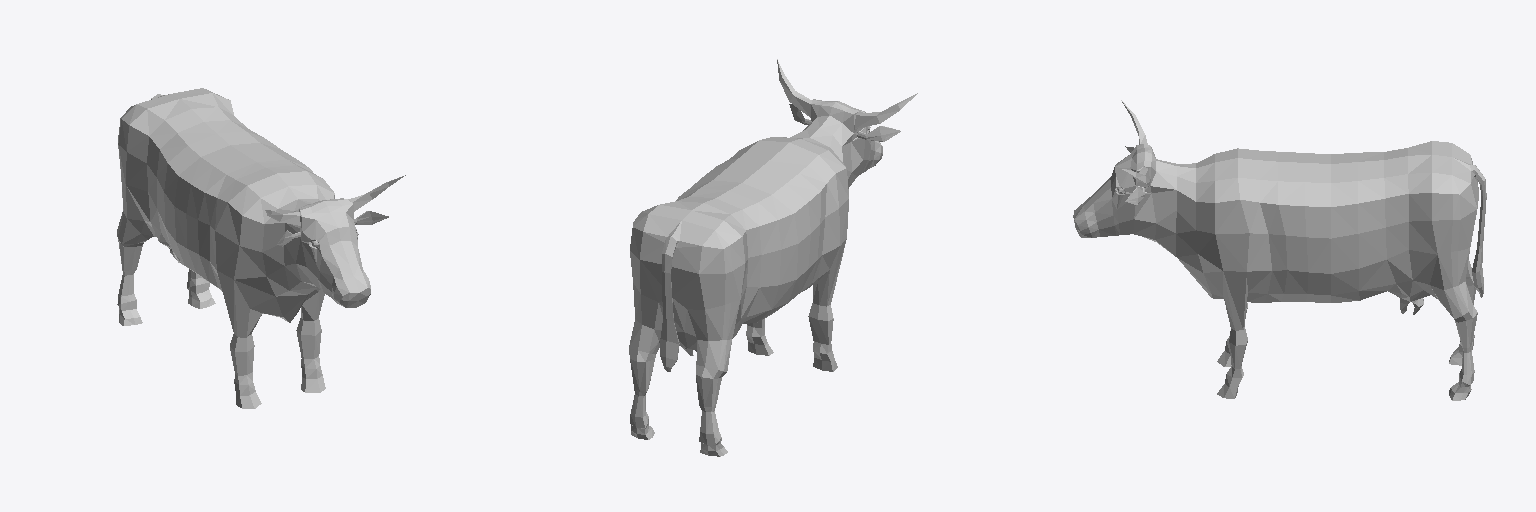
Rendered from LP_cow.obj.
The picture shows the model from 3 angles: view 1: azimuth 30°, elevation 25°; view 2: azimuth 150°, elevation 25°; view 3: azimuth 270°, elevation 25°; orthographic projection.
Visible parts, largest first — view 1: Cube; view 2: Cube; view 3: Cube.
Part boxes in pixels (left/top/right/bottom): Cube: left=117, top=88, right=405, bottom=408; Cube: left=629, top=59, right=917, bottom=456; Cube: left=1073, top=100, right=1486, bottom=400.
Size of the model in its own units: 0.91 by 1.5 by 2.3.